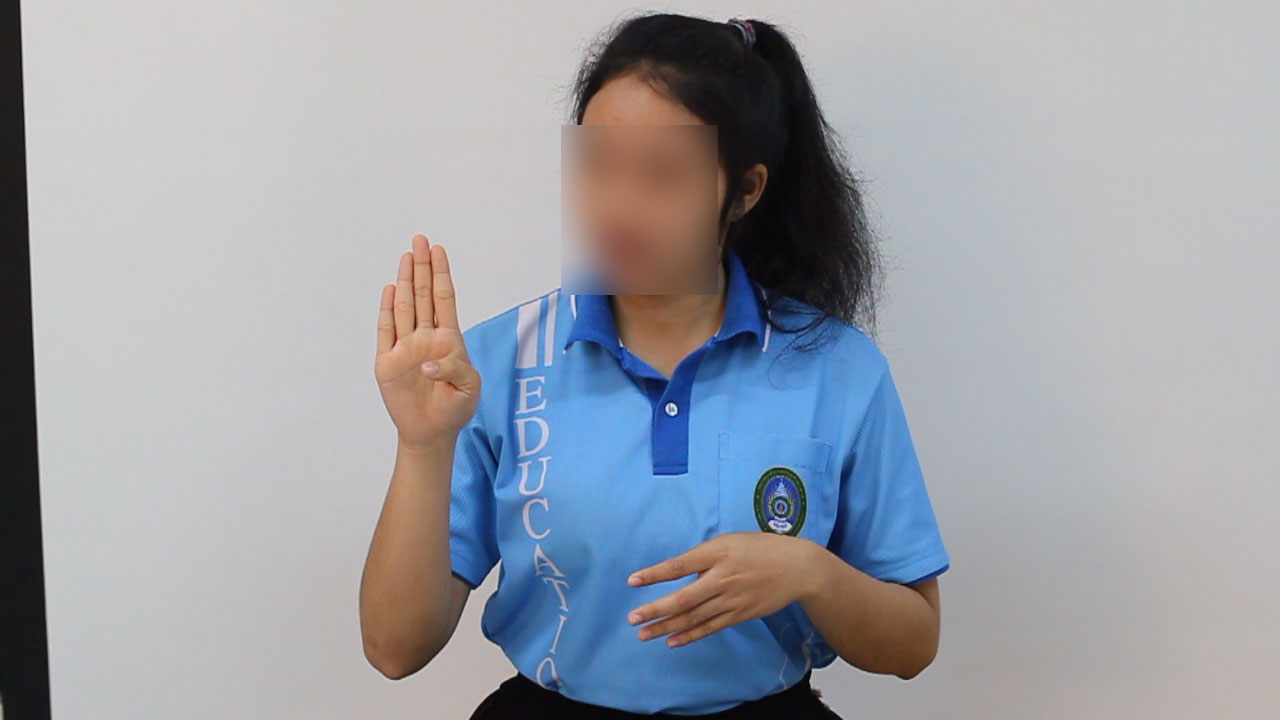bor: (354, 216, 499, 476)
